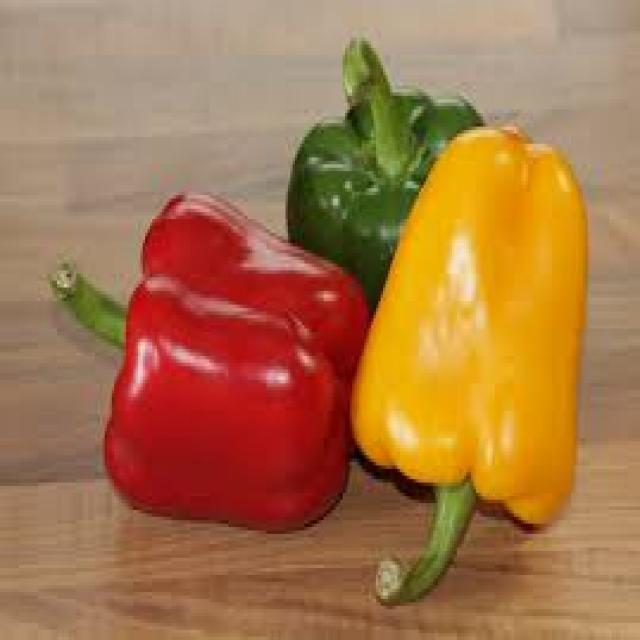organic waste: (348, 120, 586, 606), (48, 188, 368, 530), (286, 34, 486, 318)
